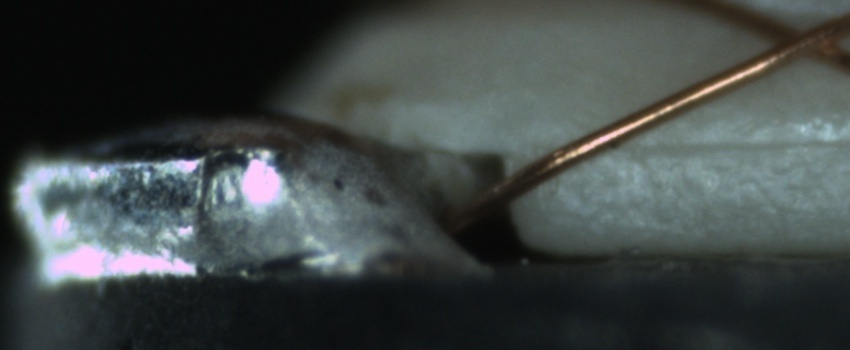CL: (747, 4, 844, 71)
DL: (616, 109, 843, 179)
